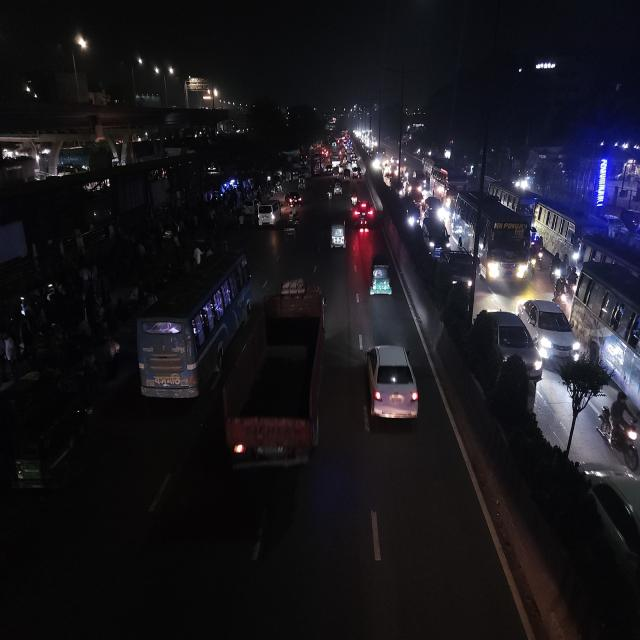bus: (134, 248, 253, 408), (573, 259, 640, 415), (456, 188, 530, 288), (534, 196, 592, 266), (431, 163, 465, 199)
car: (361, 340, 421, 436), (474, 307, 544, 384), (520, 296, 582, 362), (440, 249, 478, 294), (421, 214, 451, 257), (254, 196, 282, 229), (403, 195, 421, 232), (351, 205, 378, 229), (422, 192, 445, 220), (620, 208, 640, 236), (286, 189, 302, 207)
cng: (6, 399, 84, 499), (367, 248, 394, 302), (328, 218, 348, 255), (333, 179, 342, 197)
motorcycle: (594, 391, 640, 465), (528, 228, 546, 272), (554, 275, 570, 308), (550, 250, 564, 284), (349, 186, 357, 208), (326, 186, 333, 203)
rickshaw: (283, 216, 299, 243)
truck: (223, 280, 329, 487)
